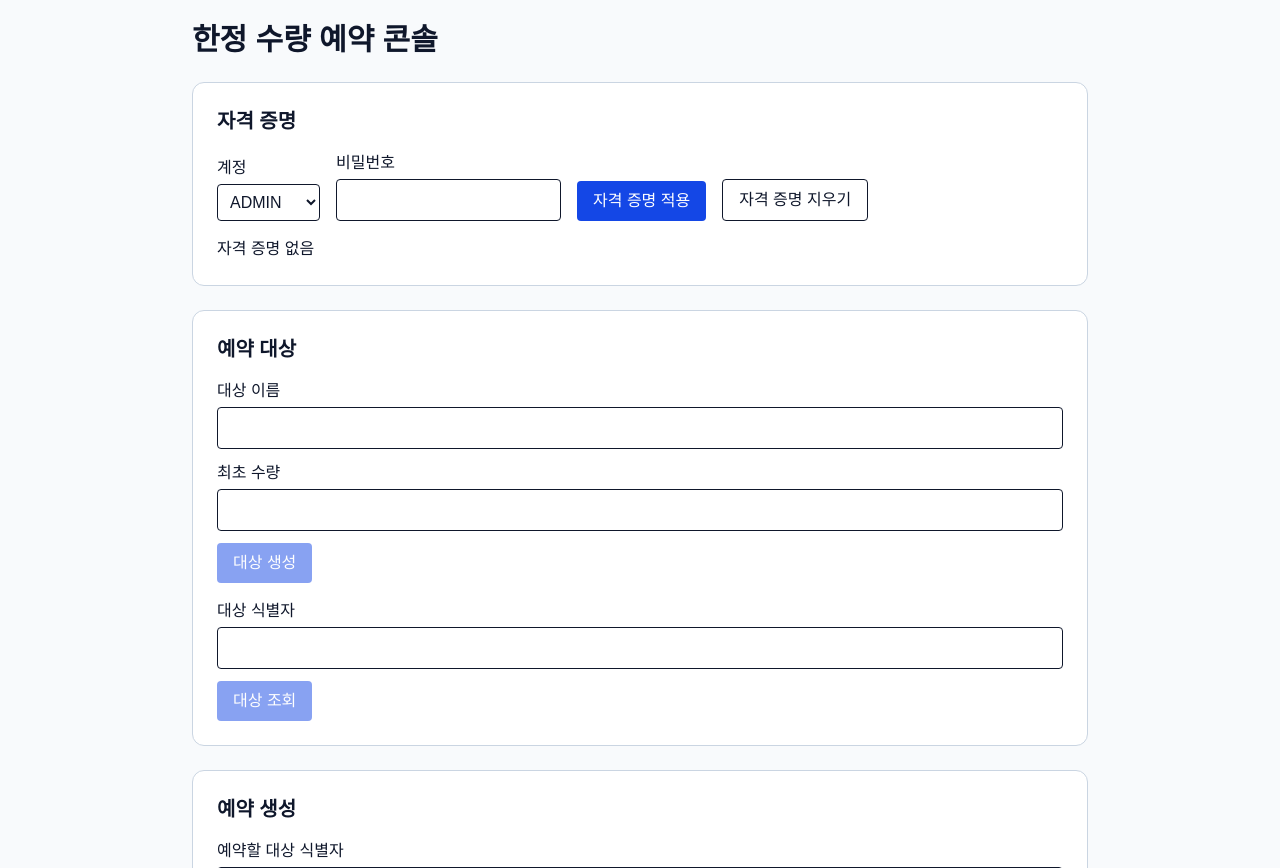
Test: 최근 기록 표시와 저장 › 대상 조회 성공 후 종류와 식별자 및 이름과 당시 계정을 기록한다
This screenshot has width=1280, height=868.
Select "USER_A" in the dropdown labelled "계정" at (268, 202), box [217, 184, 320, 221]
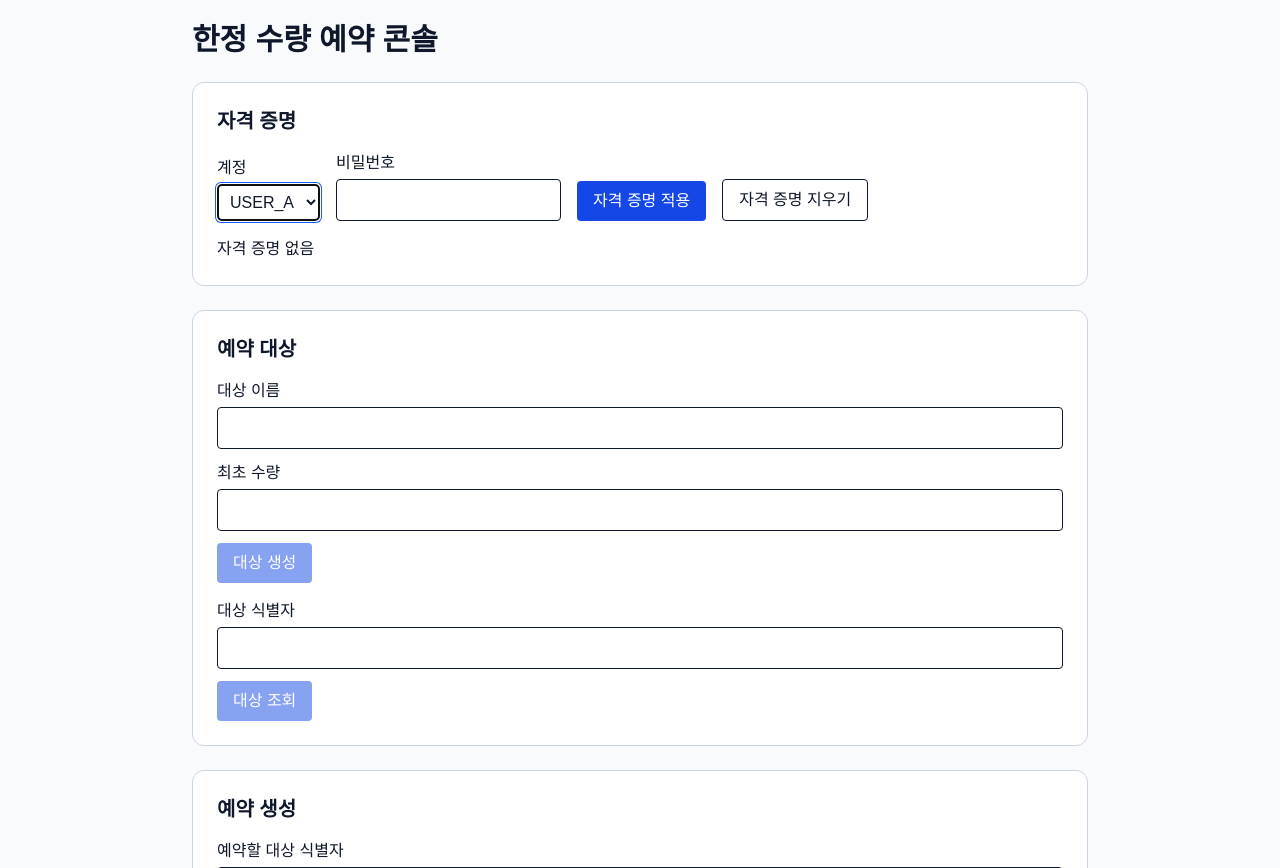
Type "history-secret-password" into the password field labelled "비밀번호".
click(448, 200); type("history-secret-password")  # box [336, 179, 561, 221]
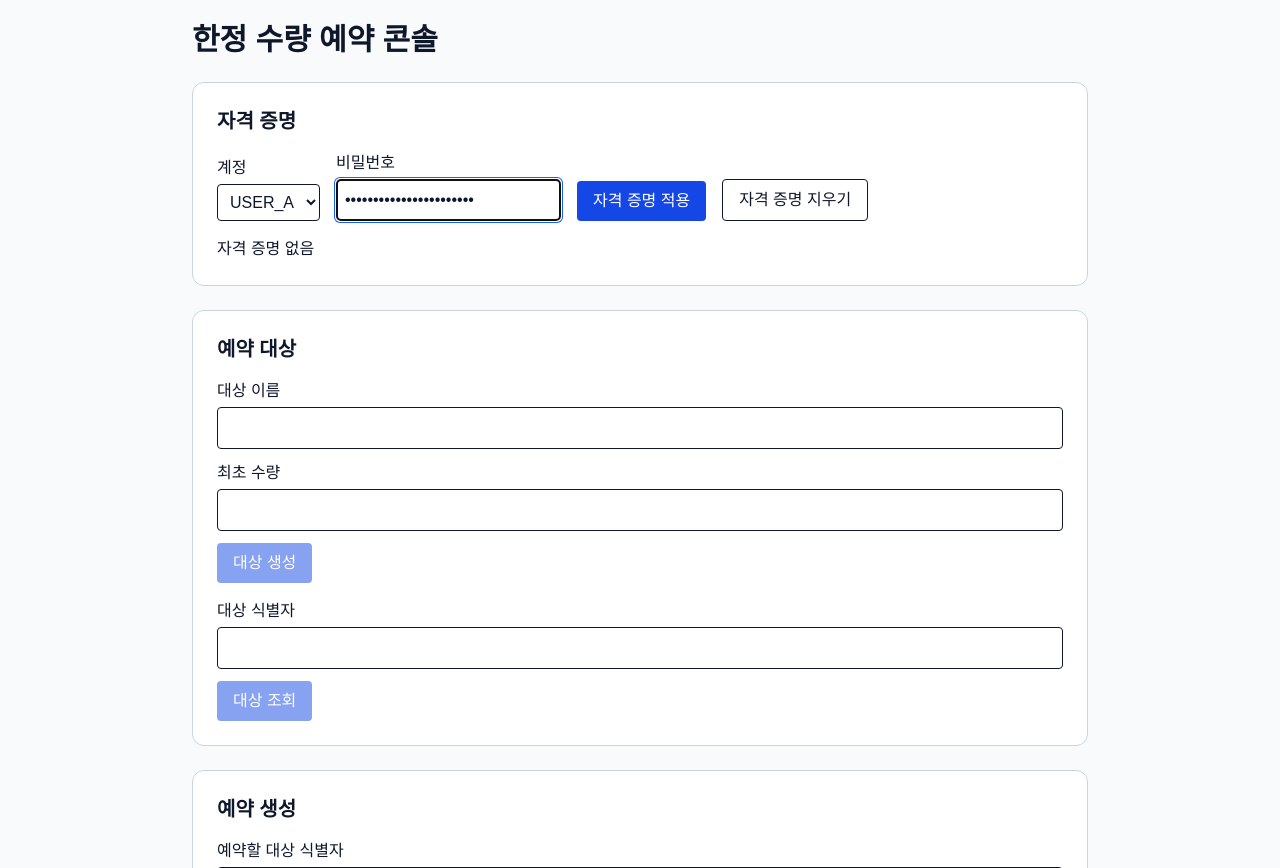
Click the button "자격 증명 적용".
click(642, 201)  # box [577, 181, 706, 221]
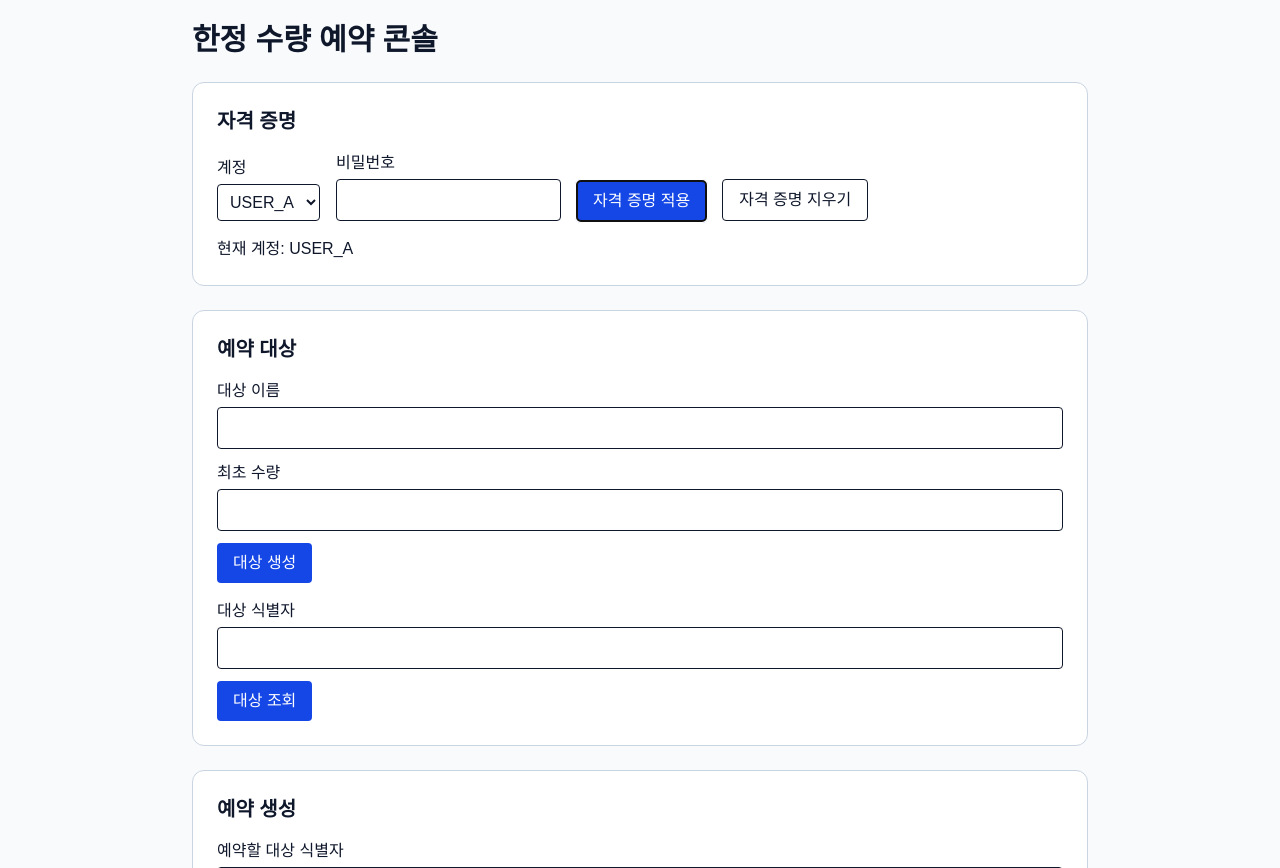
Expected: the text "현재 계정: USER_A" is shown, [217, 240, 353, 257]
Type "12345678-1234-4234-8234-123456789abc" into the field labelled "대상 식별자".
click(640, 648); type("12345678-1234-4234-8234-123456789abc")  # box [217, 627, 1063, 669]
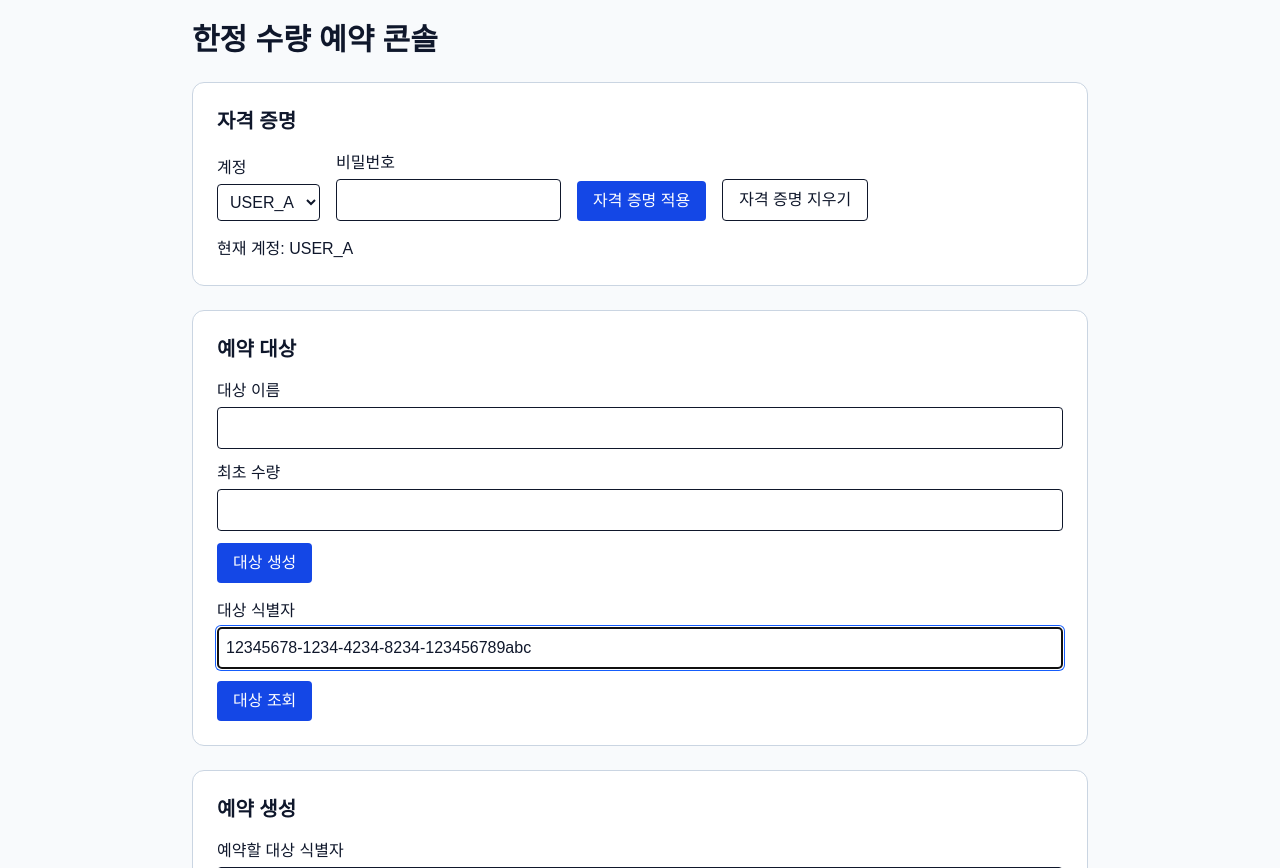
Click the button "대상 조회".
click(265, 701)  # box [217, 681, 312, 721]
(page scrolled)
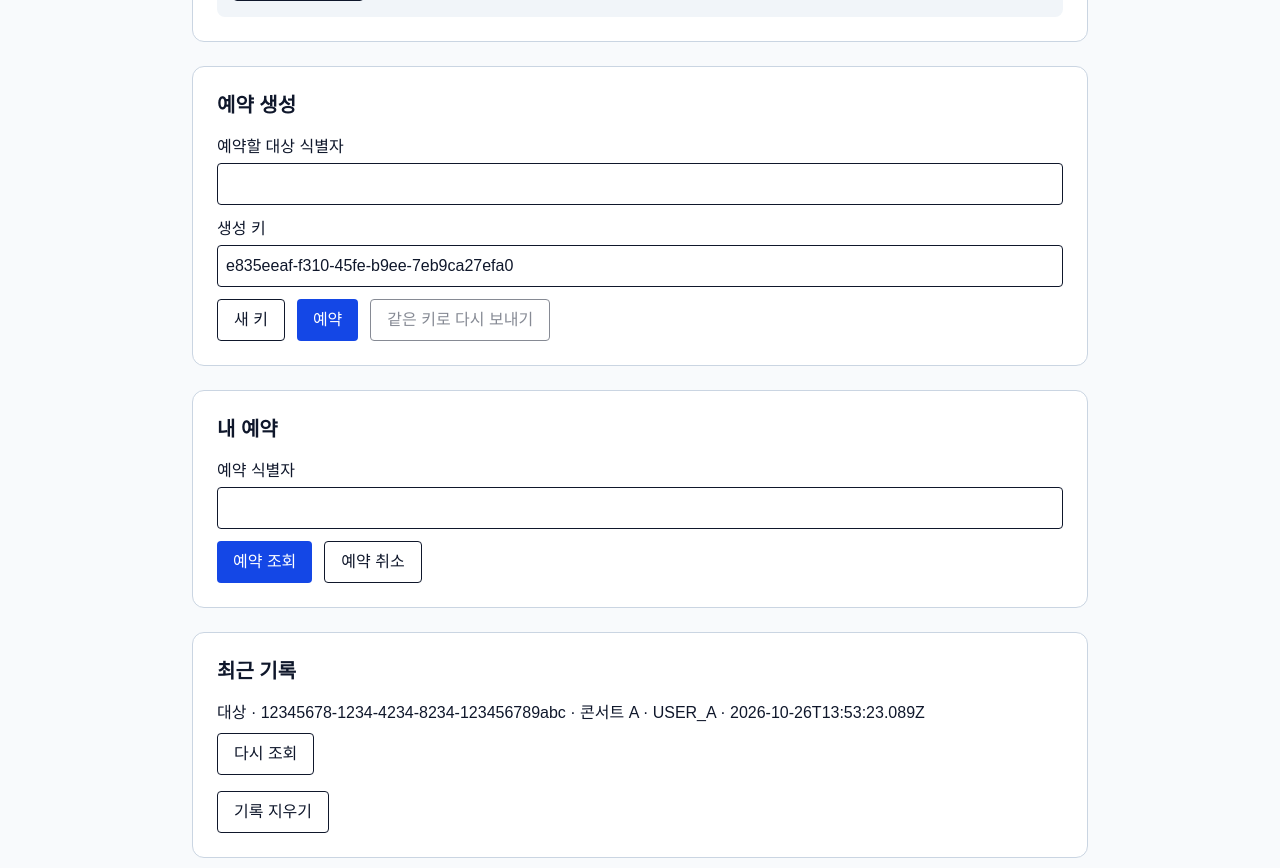
Expected: the element "최근 기록" shows "대상", [217, 704, 925, 721]
Expected: the element "최근 기록" shows "12345678-1234-4234-8234-123456789abc", [217, 704, 925, 721]
Expected: the element "최근 기록" shows "콘서트 A", [217, 704, 925, 721]
